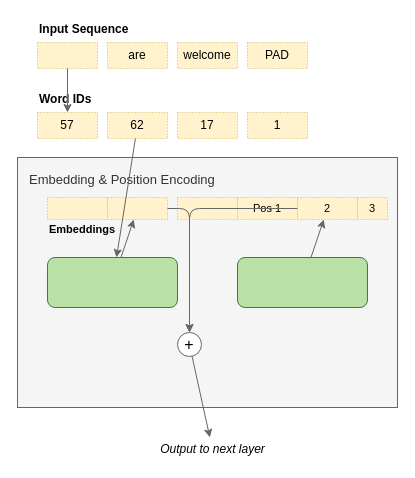
Image size: 415x478. Some labels were removed from this diagram. Each missing label, with the centre of its shape:
"Embedding" goes at point (112, 282).
"Position Encoding" goes at point (302, 282).
"You" goes at point (67, 55).
